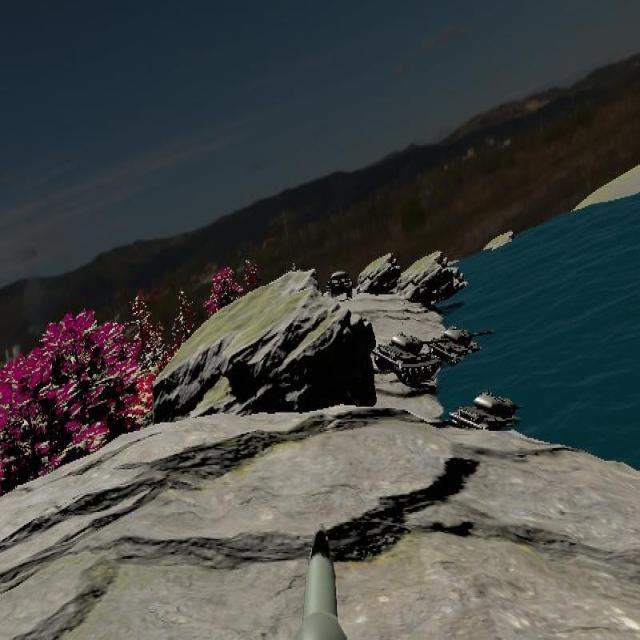Tank: (452, 387, 521, 448), (375, 329, 441, 386), (430, 324, 494, 366)
